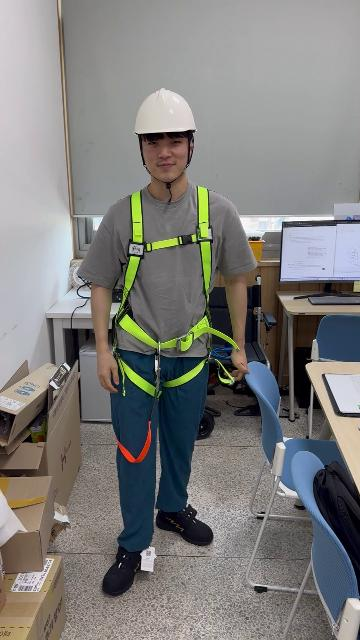helmet_worn: (132, 88, 199, 136)
shoe_worn: (102, 545, 148, 596), (155, 504, 212, 545)
vest_worn: (108, 188, 239, 441)
